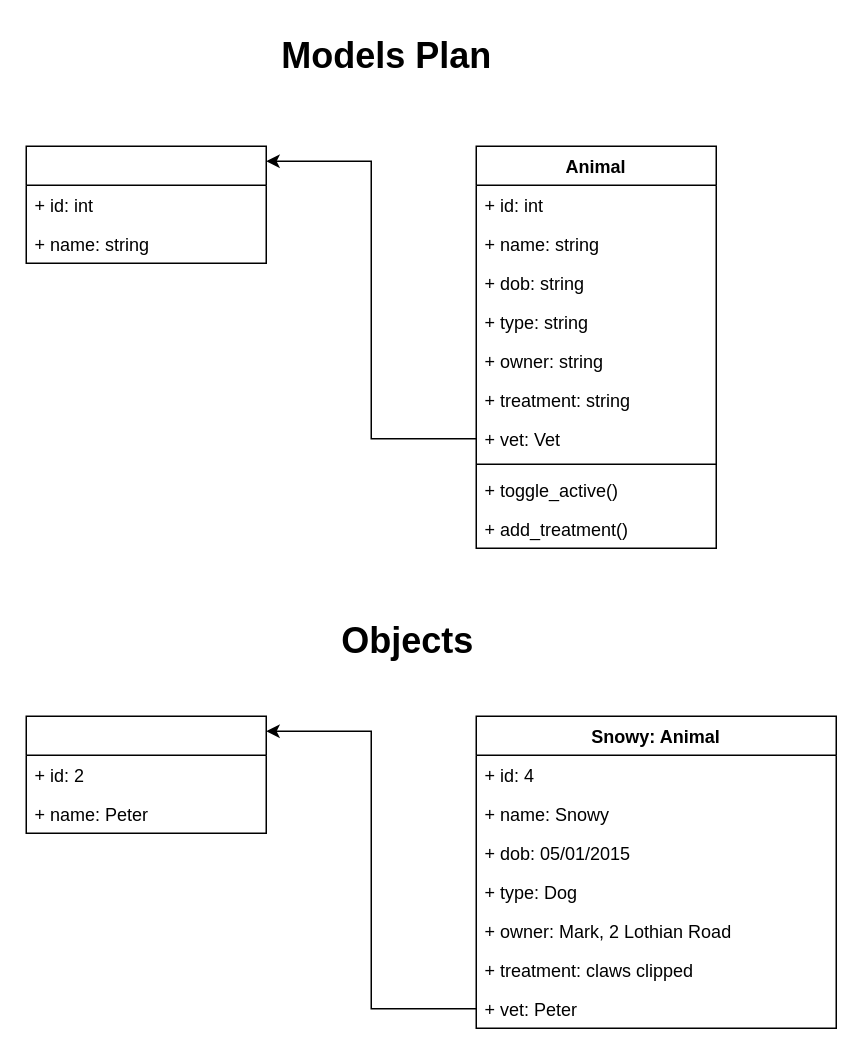
This 863x1058 diagram has some shape labels left out. The shapes that lost their labels are listed below. From the top down, each one's box as (x1, y1, x2, y2) in pixels, then its label:
(25, 145, 266, 263): Vet
(25, 715, 266, 833): Peter: Vet
